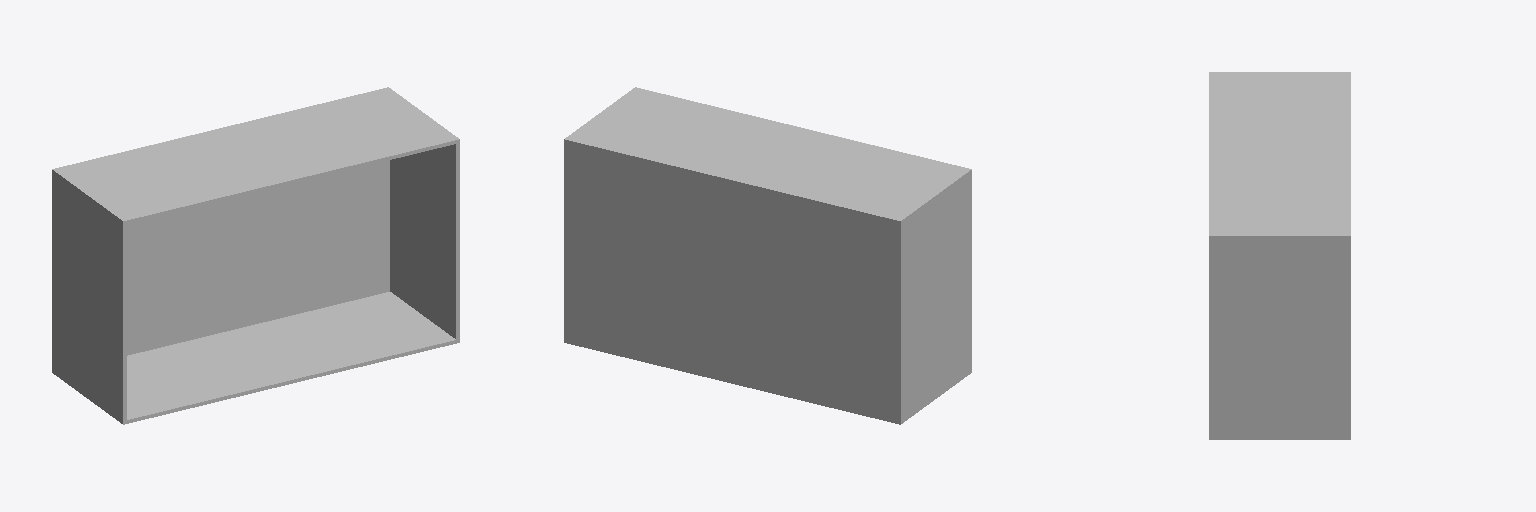
Rendered from prop_drawer.obj.
The picture shows the model from 3 angles: view 1: azimuth 30°, elevation 25°; view 2: azimuth 150°, elevation 25°; view 3: azimuth 270°, elevation 25°; orthographic projection.
Parts seen in each view (by area): view 1: Props_Drawers; view 2: Props_Drawers; view 3: Props_Drawers.
Part boxes in pixels (x1,y1,x2,y2): Props_Drawers: (52, 87, 459, 424); Props_Drawers: (564, 87, 971, 424); Props_Drawers: (1209, 72, 1350, 439).
Bounding box in the file's own units: 1.33 × 0.7696 × 0.4887.